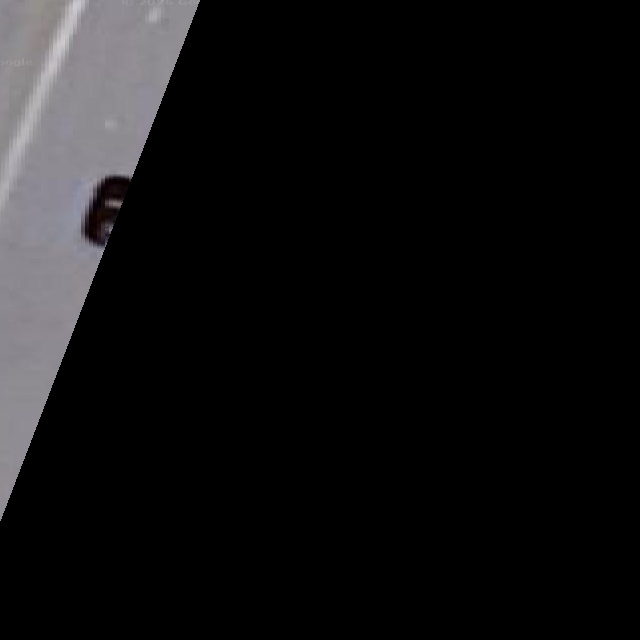car: (83, 178, 128, 243)
